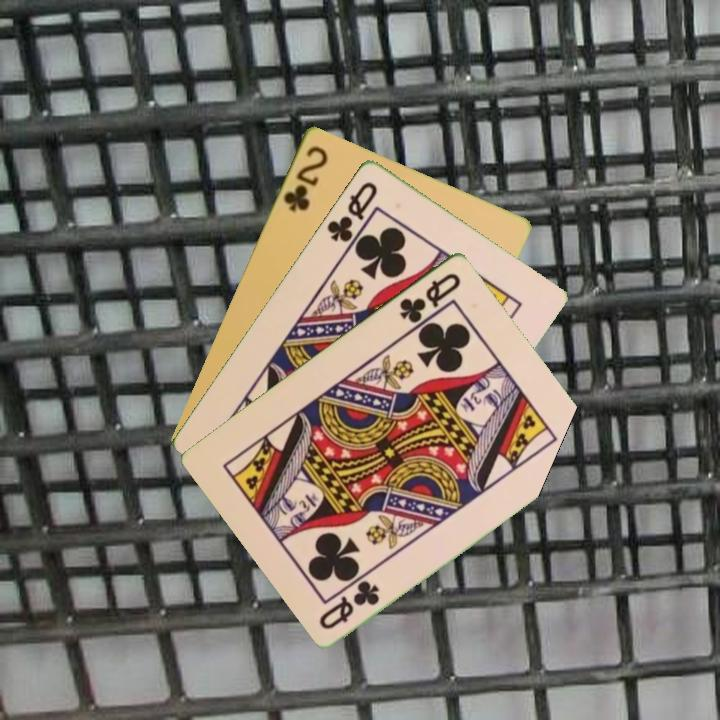2c: (279, 141, 331, 215)
Qc: (395, 268, 464, 326), (323, 177, 381, 245), (315, 576, 383, 632)
